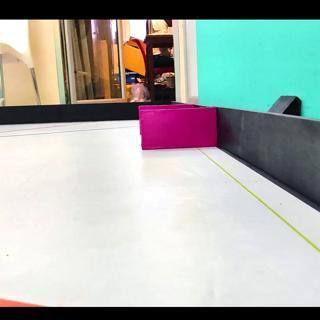xparking: (142, 111, 214, 148)
